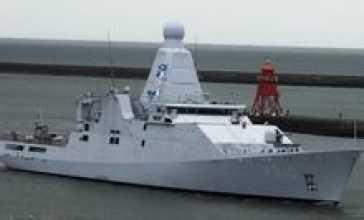warship: (5, 22, 358, 199)
